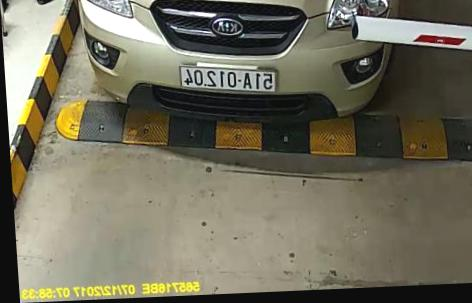License_Plate: (176, 61, 277, 96)
